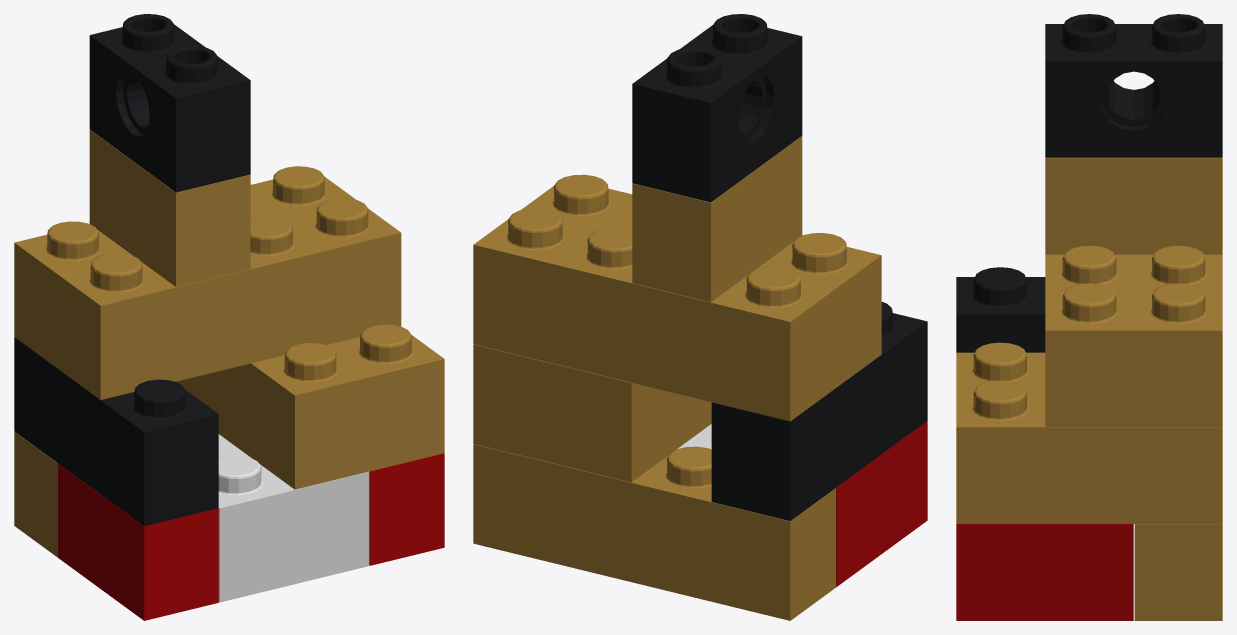
The model's file is SmallObj_v3.dae.
3 renders of one model, left to right at view 1: azimuth 30°, elevation 25°; view 2: azimuth 150°, elevation 25°; view 3: azimuth 270°, elevation 25°, orthographic. The views are drawn at different scales.
Visible parts, largest first — view 1: Part.0, Part.1, Part.7, Part.8, Part.2, Part.4, Part.5, Part.3, Part.6; view 2: Part.0, Part.6, Part.8, Part.7, Part.1, Part.5, Part.4; view 3: Part.1, Part.0, Part.8, Part.3, Part.5, Part.6, Part.7.
Boxes of the visible parts, left/top/right/bottom form: Part.0: left=14, top=166, right=401, bottom=399; Part.1: left=176, top=324, right=444, bottom=489; Part.7: left=14, top=337, right=218, bottom=526; Part.8: left=89, top=14, right=250, bottom=192; Part.2: left=218, top=434, right=369, bottom=602; Part.4: left=57, top=463, right=218, bottom=620; Part.5: left=89, top=130, right=250, bottom=286; Part.3: left=369, top=453, right=444, bottom=565; Part.6: left=14, top=431, right=57, bottom=557; Part.0: left=473, top=174, right=881, bottom=421; Part.6: left=473, top=444, right=835, bottom=620; Part.8: left=632, top=14, right=802, bottom=202; Part.7: left=711, top=302, right=927, bottom=520; Part.1: left=473, top=344, right=711, bottom=482; Part.5: left=632, top=136, right=802, bottom=301; Part.4: left=836, top=421, right=927, bottom=587; Part.1: left=956, top=342, right=1222, bottom=523; Part.0: left=1045, top=245, right=1222, bottom=426; Part.8: left=1045, top=14, right=1222, bottom=157; Part.3: left=956, top=524, right=1133, bottom=620; Part.5: left=1045, top=157, right=1222, bottom=254; Part.6: left=1134, top=524, right=1222, bottom=620; Part.7: left=956, top=267, right=1045, bottom=352.
Bounding box in the file's own units: 31.92 × 49.78 × 23.92.
